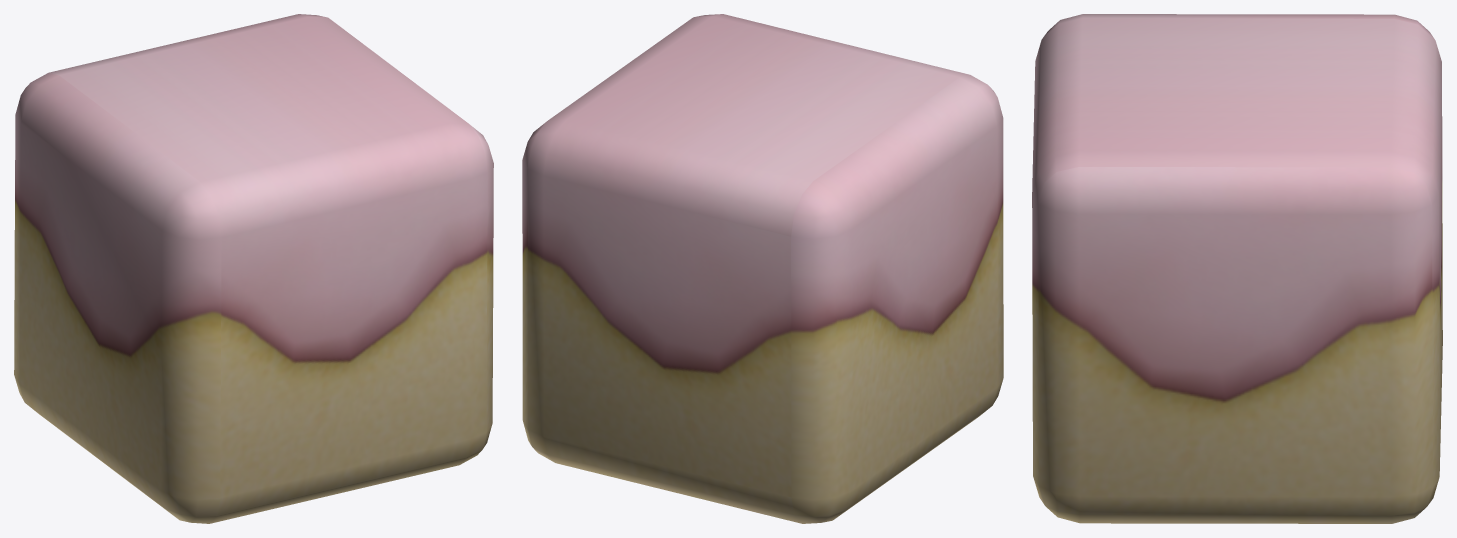
Rendered from pink_cake.glb.
3 renders of one model, left to right at view 1: azimuth 30°, elevation 25°; view 2: azimuth 150°, elevation 25°; view 3: azimuth 270°, elevation 25°, orthographic. The views are drawn at different scales.
Visible parts, largest first — view 1: pink_cake; view 2: pink_cake; view 3: pink_cake.
Boxes of the visible parts, left/top/right/bottom form: pink_cake: left=14, top=14, right=493, bottom=523; pink_cake: left=522, top=14, right=1003, bottom=523; pink_cake: left=1032, top=14, right=1442, bottom=523.
Bounding box in the file's own units: 0.4301 × 0.4277 × 0.43.
1 material, 1 textured.
